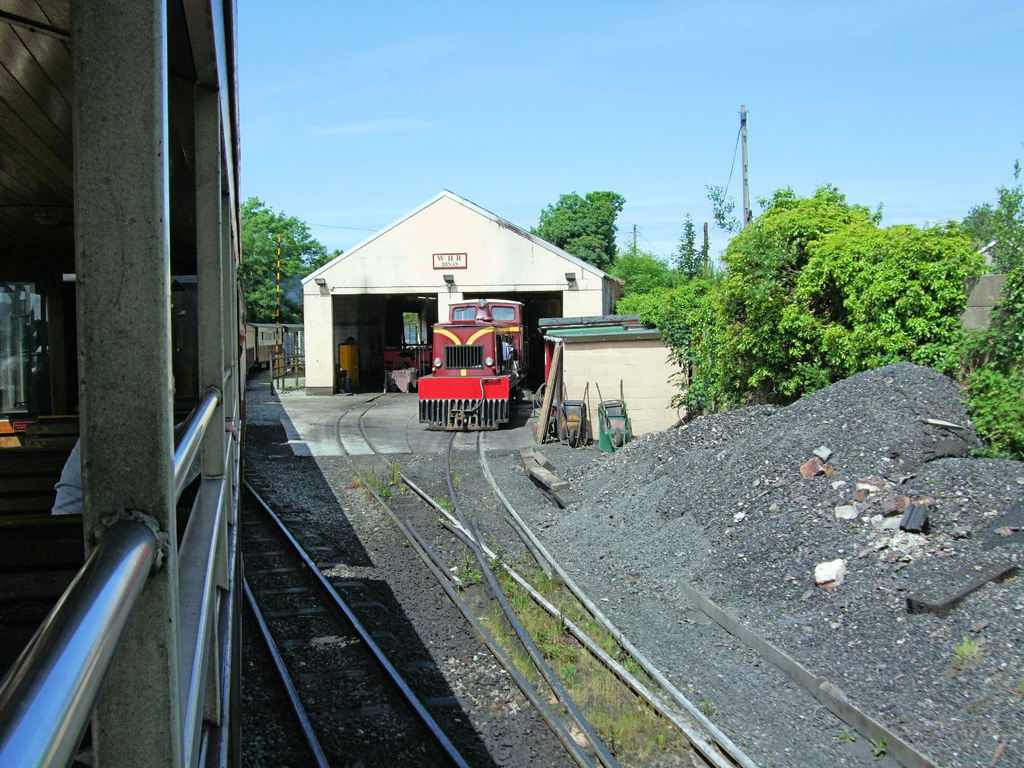train: (417, 296, 538, 432)
